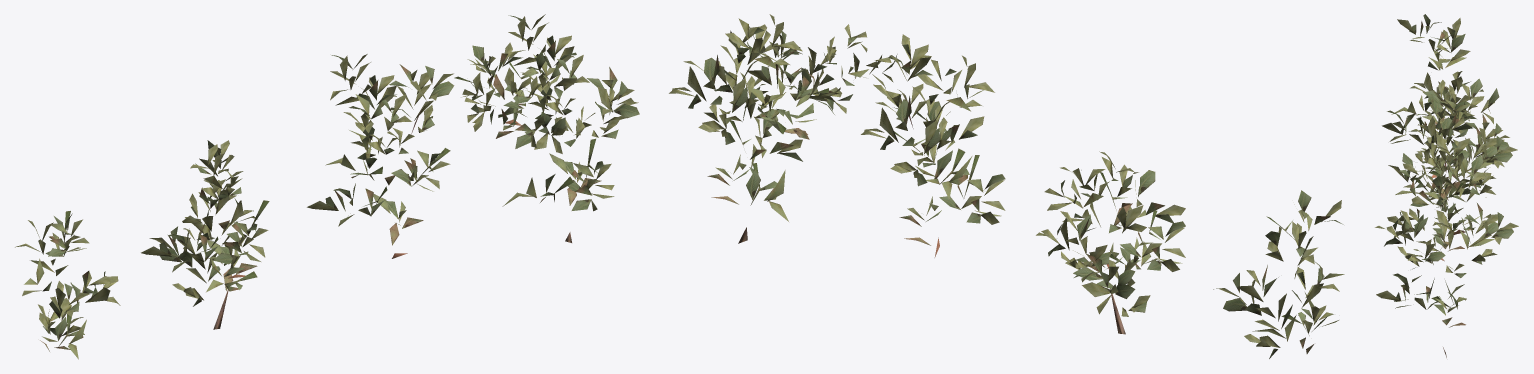
The model's file is shrub_04.glb.
3 renders of one model, left to right at view 1: azimuth 30°, elevation 25°; view 2: azimuth 150°, elevation 25°; view 3: azimuth 270°, elevation 25°, orthographic. The views are drawn at different scales.
Visible parts, largest first — view 1: shrub_04; view 2: shrub_04; view 3: shrub_04.
Boxes of the visible parts, box(x1,y1,x2,y2) form: shrub_04: box(15, 14, 639, 359); shrub_04: box(669, 14, 1344, 358); shrub_04: box(1375, 14, 1518, 357).
Bounding box in the file's own units: 0.5837 × 0.2172 × 0.1461.
Materials: 1 (1 with a texture image).
